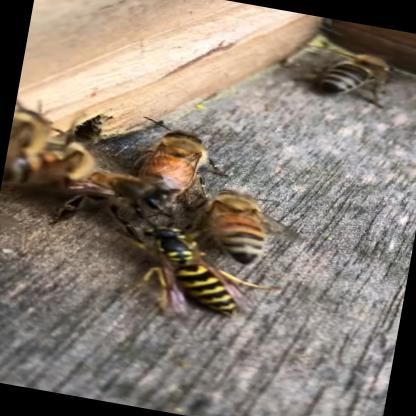bee: (0, 82, 91, 227), (287, 26, 412, 120), (105, 108, 222, 208), (186, 174, 304, 254)
hornet: (108, 244, 283, 331), (88, 214, 206, 313)
